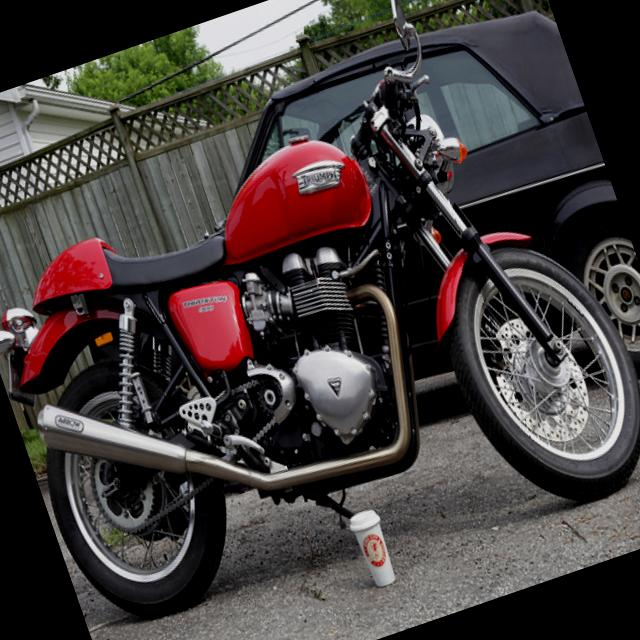Vehicle: (0, 0, 640, 640), (193, 0, 640, 484)
